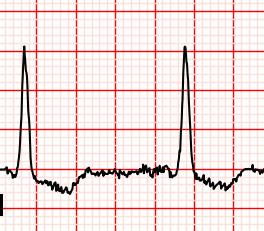ST Depression: (7, 160, 90, 197), (166, 157, 239, 196)
